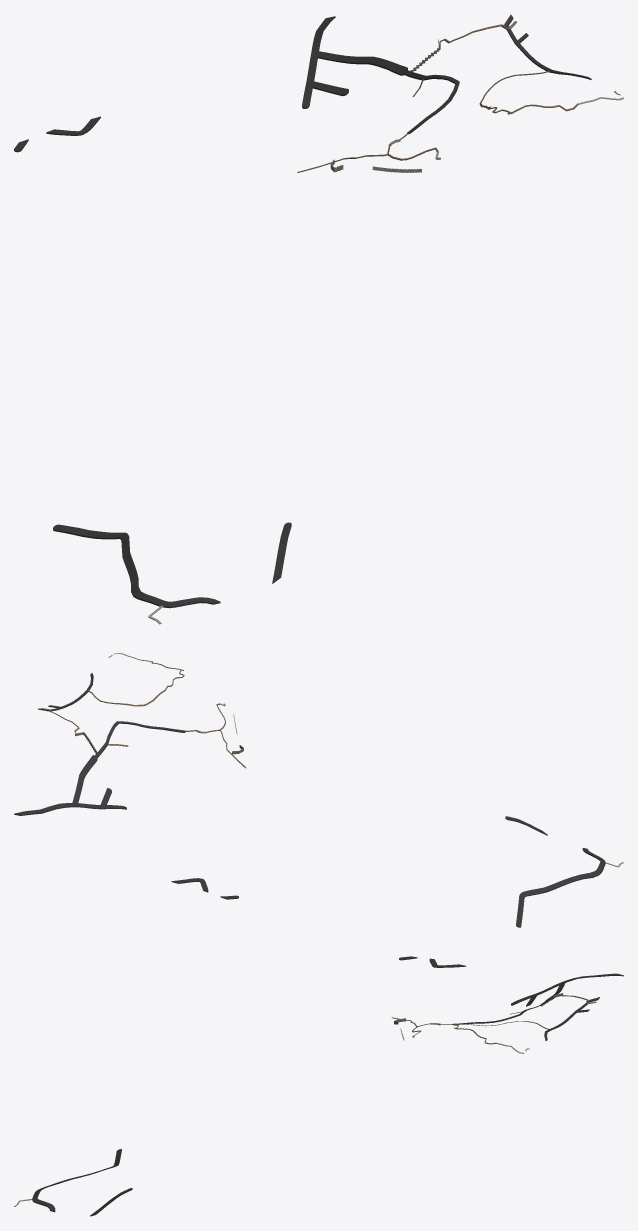
File: 16-54721-29729.badb66f3.glb
3 views of the same model, one above another, from view 1: azimuth 30°, elevation 25°; view 2: azimuth 150°, elevation 25°; view 3: azimuth 330°, elevation 25° (orthographic). The views are drawn at different scales.
Bounding box in the file's own units: 565 × 250 × 583.
